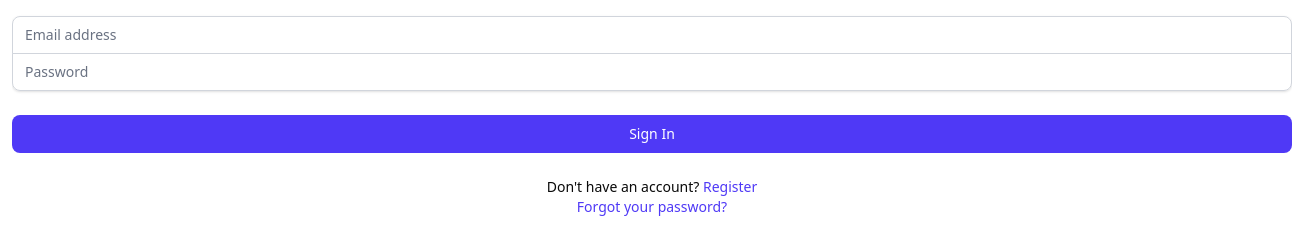
Test: LoginForm Component › shows loading state during submission
The image size is (1304, 233).
Type "test@example.com" into the field with placeholder "Email address". click: (652, 35)
box: [12,16,1292,54]
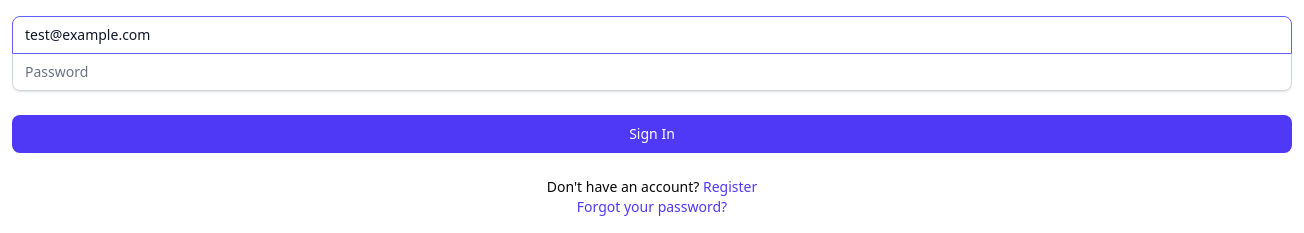
Type "password123" into the password field with placeholder "Password". click: (652, 72)
box: [12,53,1292,91]
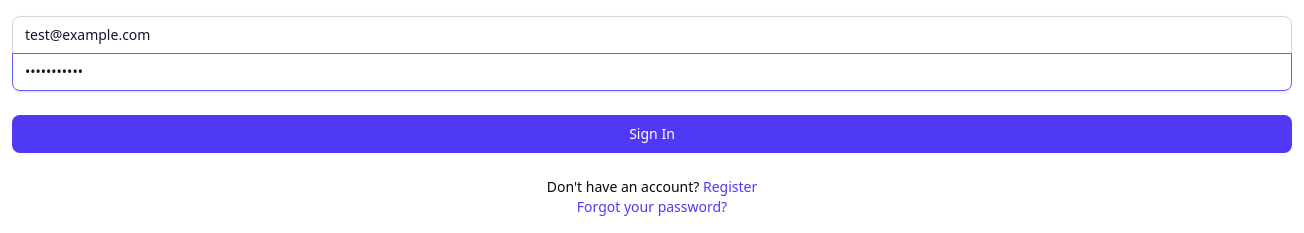
Click the button "Sign In". click: (652, 134)
box: [12,115,1292,153]
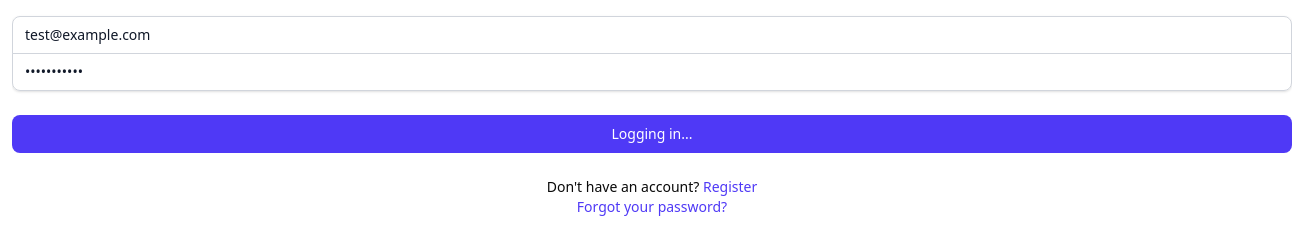
Result: the button "Logging in..." is disabled at [12,115,1292,153]
